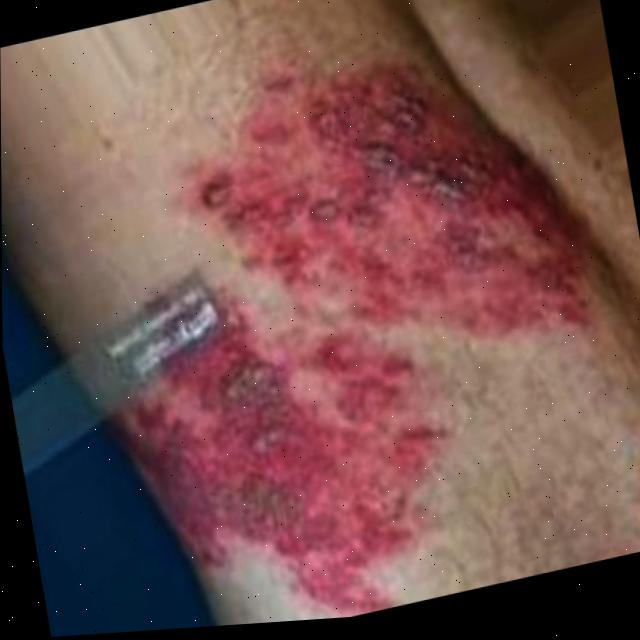Shingles: (179, 16, 607, 405), (97, 273, 464, 634)
